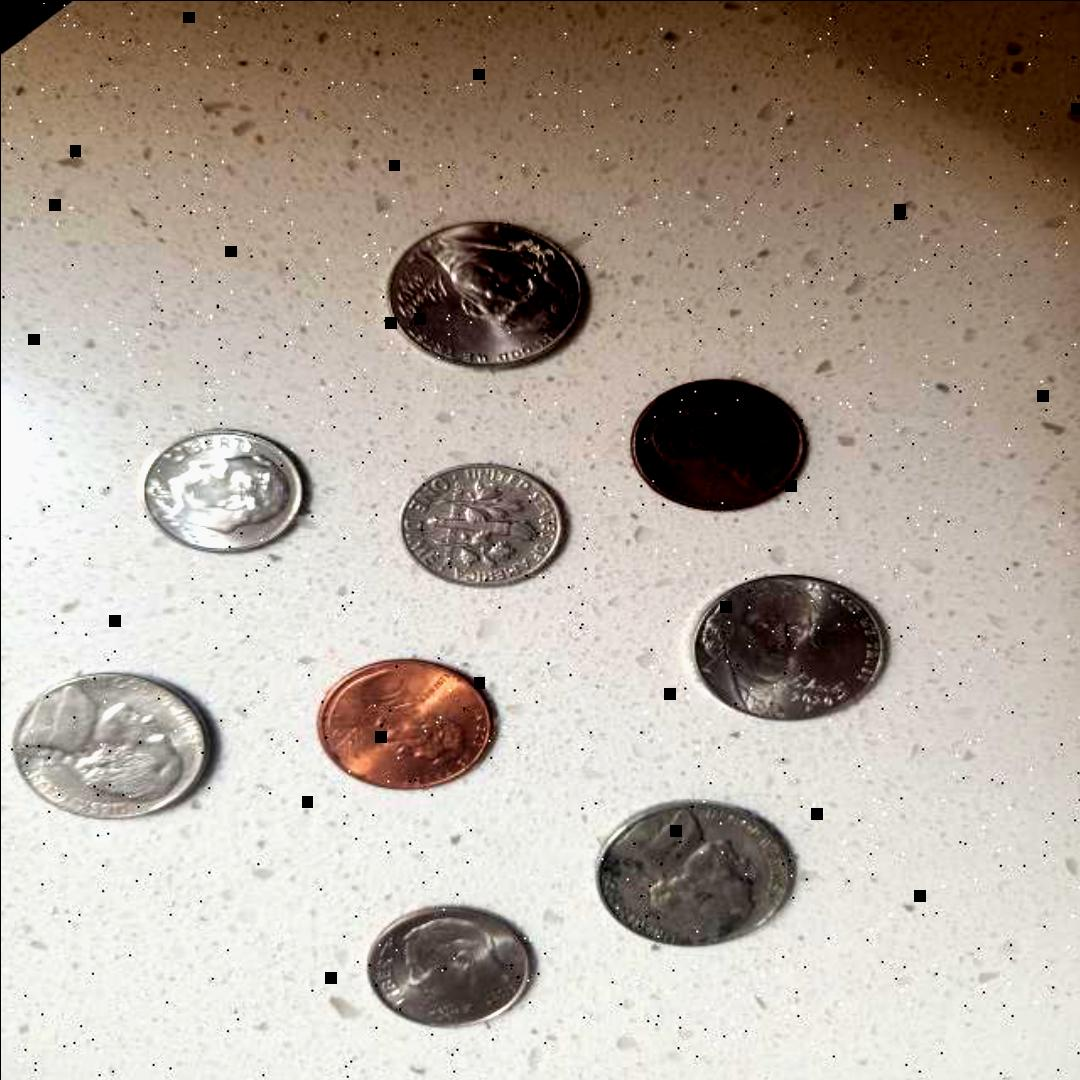Dime: (142, 423, 328, 561), (386, 460, 570, 596), (364, 901, 542, 1039)
Nickel: (358, 224, 590, 376), (6, 664, 220, 826), (582, 792, 796, 952), (685, 575, 889, 733)
Penny: (614, 370, 818, 532), (308, 648, 506, 791)
